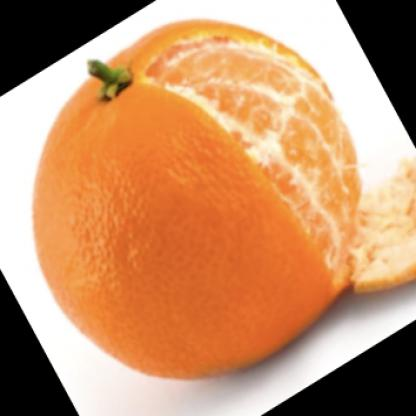orange: (27, 10, 371, 359)
